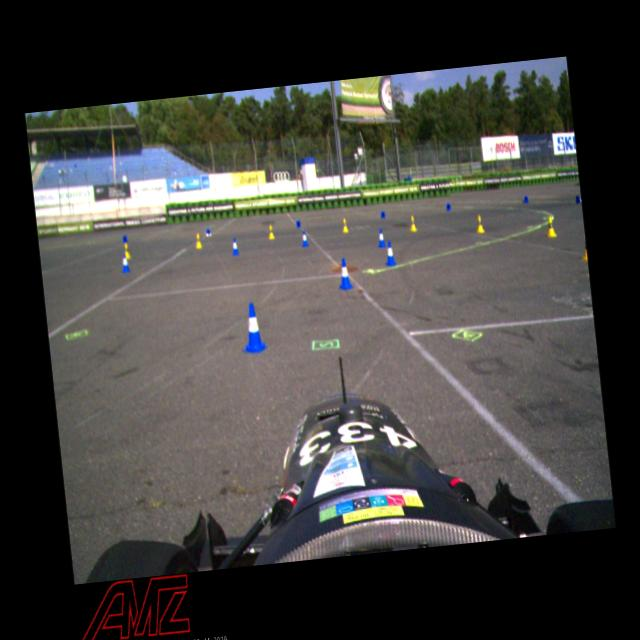blue_cone: (237, 301, 268, 354), (335, 256, 353, 290), (383, 240, 397, 266), (119, 252, 130, 273), (376, 227, 386, 247), (230, 237, 240, 256), (300, 228, 309, 248), (574, 193, 582, 204), (204, 226, 212, 236), (445, 202, 452, 212), (121, 234, 128, 243), (522, 194, 528, 204), (380, 210, 386, 219), (296, 220, 302, 228)
yellow_cone: (544, 216, 557, 238), (475, 214, 485, 233), (408, 215, 418, 232), (340, 217, 349, 233), (122, 242, 130, 260), (194, 232, 202, 249), (267, 223, 275, 240)
